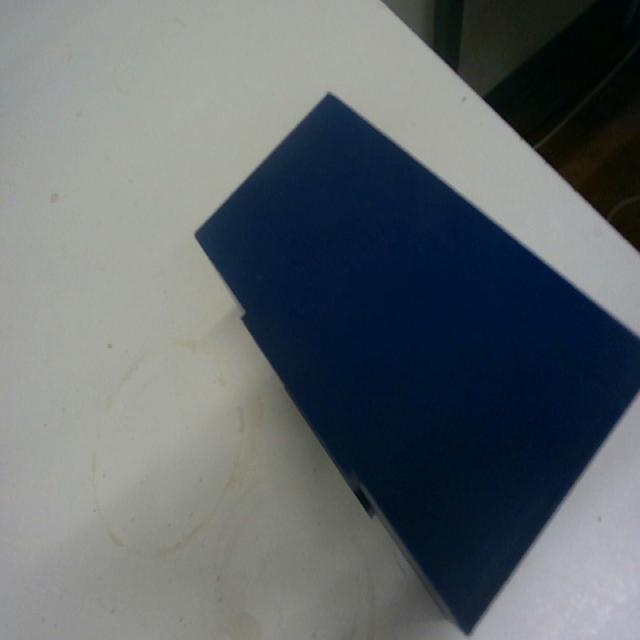Blue Cuboid: (192, 88, 639, 635)
